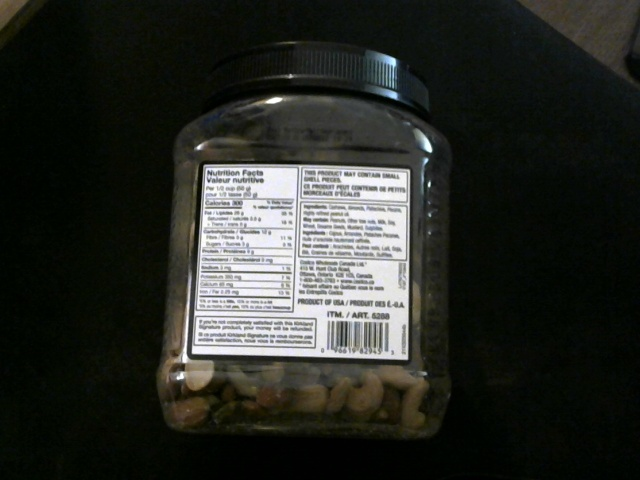Barcode: (326, 320, 390, 355)
